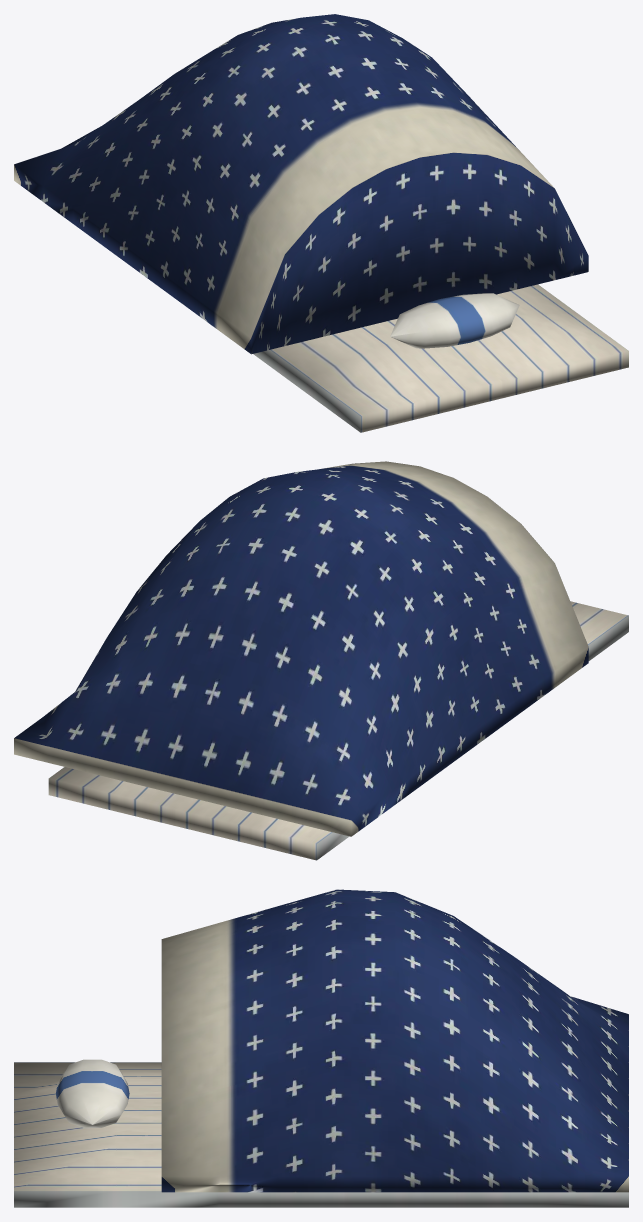
Rendered from futon.glb.
3 views of the same model, one above another, from view 1: azimuth 30°, elevation 25°; view 2: azimuth 150°, elevation 25°; view 3: azimuth 270°, elevation 25° (orthographic).
Visible parts, largest first — view 1: FutonKake, FutonShiki, FutonMakura; view 2: FutonKake, FutonShiki; view 3: FutonKake, FutonShiki, FutonMakura.
Boxes of the visible parts, x1,y1,x2,y2 form: FutonKake: [14, 14, 588, 354]; FutonShiki: [253, 284, 628, 432]; FutonMakura: [390, 293, 519, 348]; FutonKake: [14, 461, 588, 836]; FutonShiki: [48, 601, 628, 860]; FutonKake: [161, 889, 628, 1192]; FutonShiki: [14, 1062, 628, 1207]; FutonMakura: [56, 1059, 129, 1127].
Size of the model in its own units: 0.78 by 0.5388 by 1.25.
Materials: 3 (3 with a texture image).
